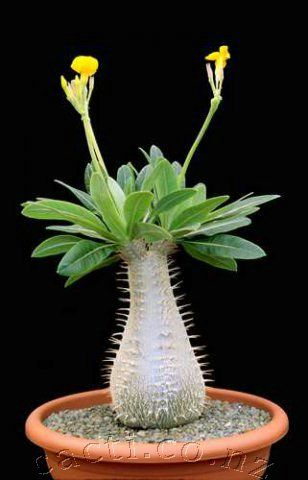Pachypodium rosulatum: (66, 142, 255, 432)
